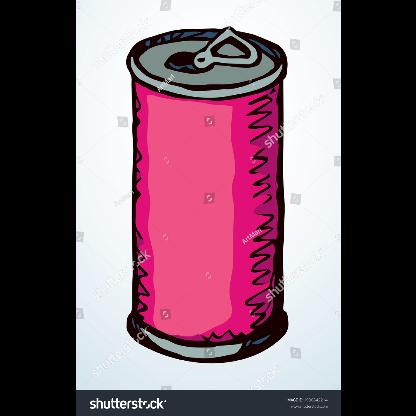Lid_Open: (162, 27, 260, 88)
Tin_Can: (119, 18, 295, 370)
